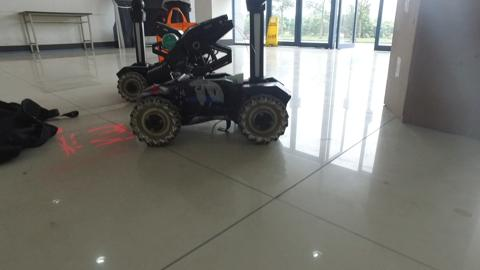chariot: (131, 1, 296, 145)
